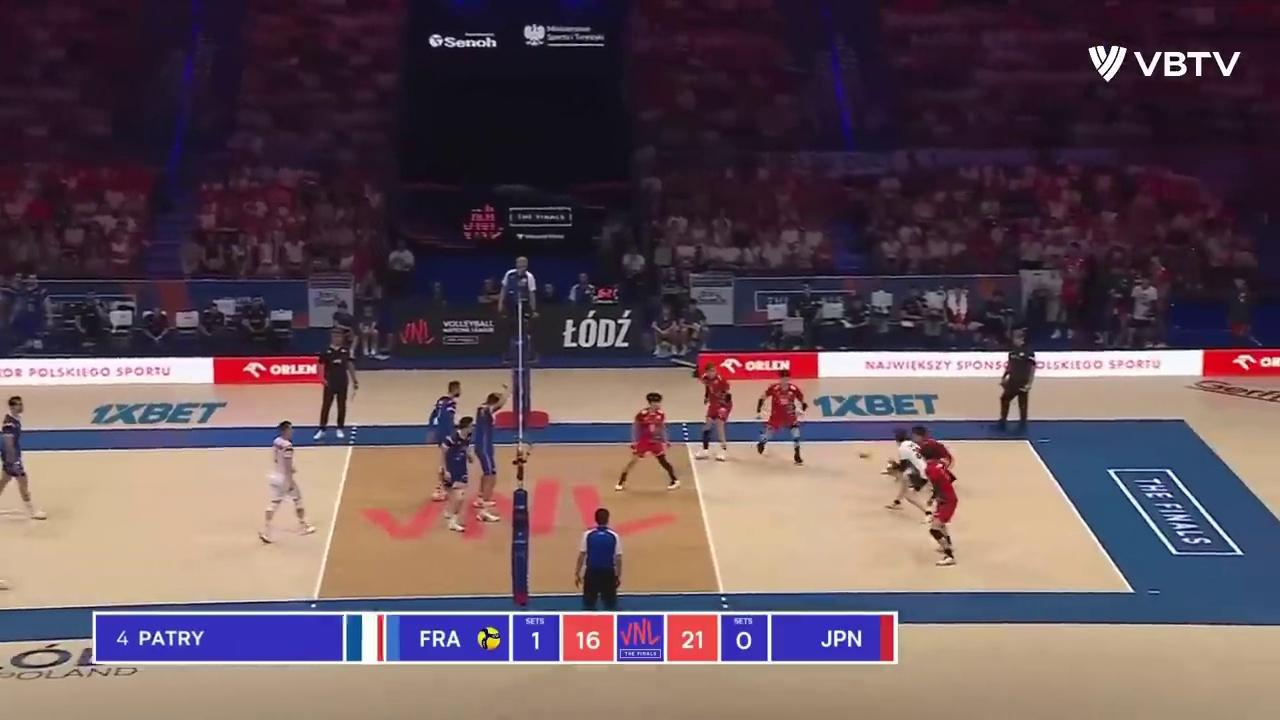ball: (857, 447, 872, 459)
